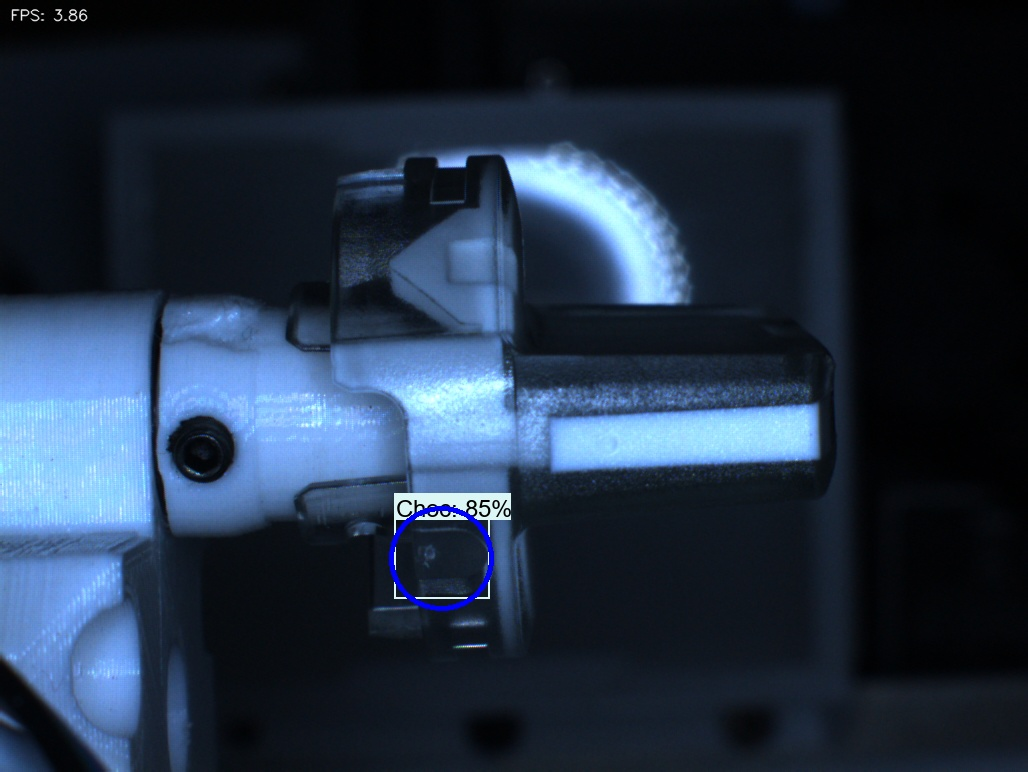DentOk: (360, 229, 441, 322)
